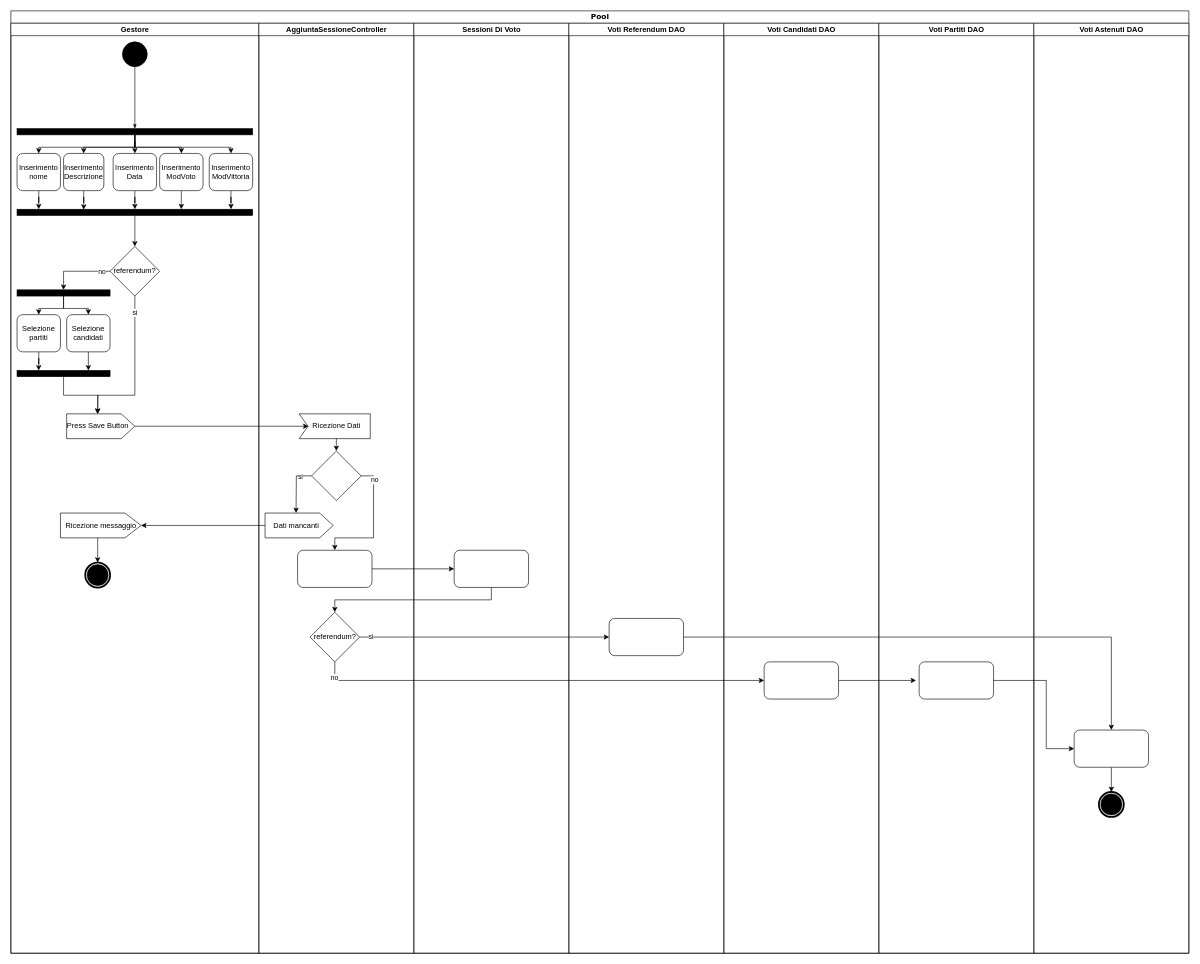
The diagram is 1200 pixels wide and 964 high, and some of its shapes have lost their labels. The shapes that lost their labels are listed below. From the top down, each one's centre as x and y in pixels, then its label:
At point 336,475: "Dati mancanti?".
At point 334,568: "Crea istanza sessione".
At point 491,568: "Aggiunta sessione di voto".
At point 646,637: "Aggiunta record voti sessione referendum".
At point 801,680: "Aggiunta record voti candidati".
At point 956,680: "Aggiunta record voti partiti".
At point 1111,748: "Aggiunta record voti astenuti".
